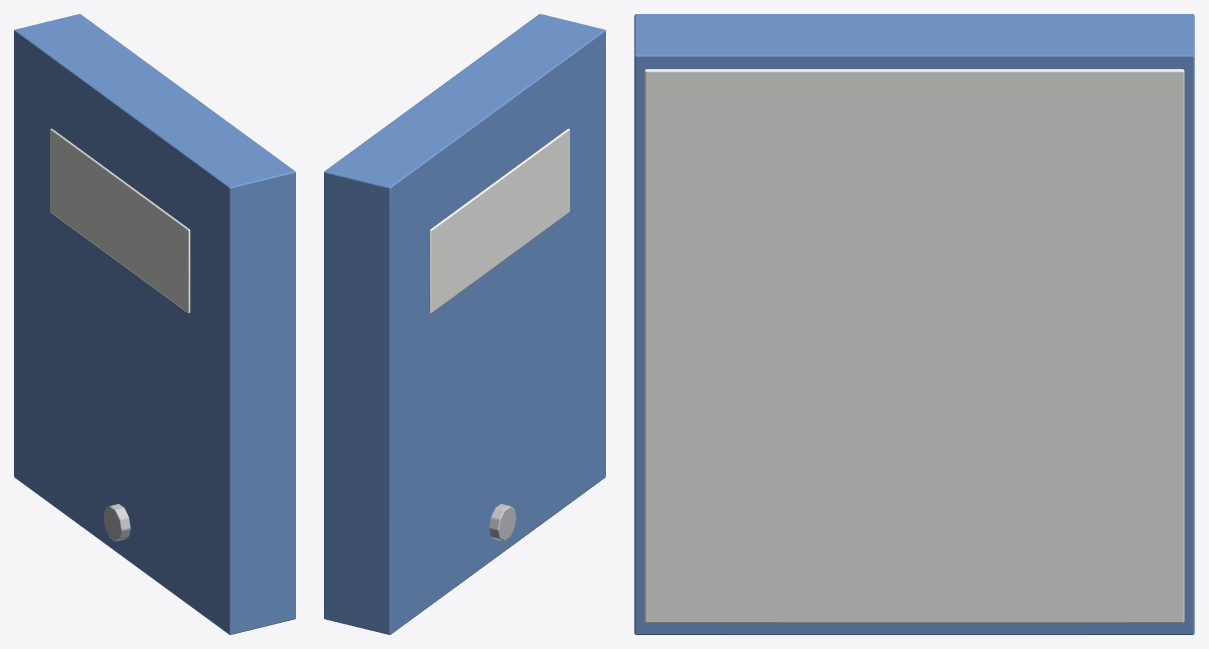
File: SM_Binder.fbx
3 views of the same model, side by side, from view 1: azimuth 30°, elevation 25°; view 2: azimuth 150°, elevation 25°; view 3: azimuth 270°, elevation 25° (orthographic). The views are drawn at different scales.
Visible parts, largest first — view 1: SM_Binder; view 2: SM_Binder; view 3: SM_Binder.
Boxes of the visible parts, x1,y1,x2,y2 form: SM_Binder: (14,14,295,634); SM_Binder: (324,14,605,634); SM_Binder: (634,14,1194,634).
Size of the model in its own units: 0.059 by 0.32 by 0.28.
